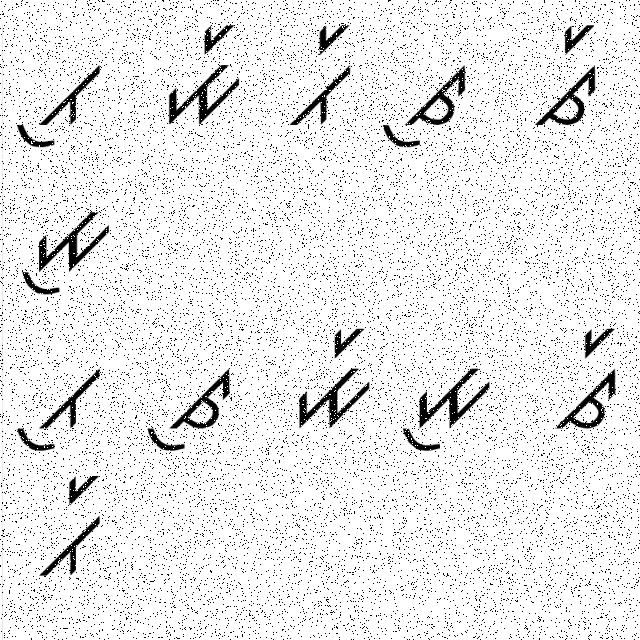bar: (278, 20, 356, 140), (36, 472, 105, 582)
baw: (10, 50, 106, 152), (15, 356, 109, 456)
car: (530, 21, 614, 137), (552, 320, 624, 444)
caw: (135, 350, 235, 456), (375, 48, 467, 158)
mar: (281, 324, 379, 439), (156, 18, 248, 132)
maw: (12, 190, 122, 298), (398, 356, 497, 458)
